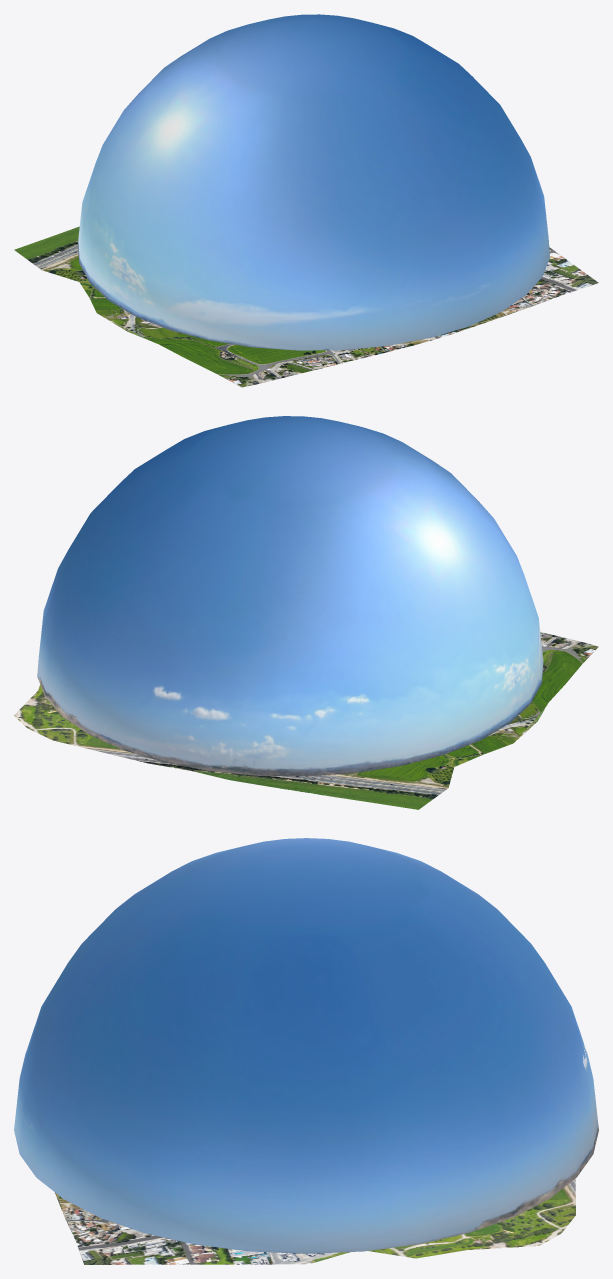
The model's file is big-scene.glb.
3 renders of one model, top to bottom at view 1: azimuth 30°, elevation 25°; view 2: azimuth 150°, elevation 25°; view 3: azimuth 270°, elevation 25°, orthographic. The views are drawn at different scales.
Visible parts, largest first — view 1: PANO_Sphere, Plane040; view 2: PANO_Sphere, Plane040; view 3: PANO_Sphere, Plane040.
Part boxes in pixels (<box>): PANO_Sphere: <box>77,14,549,350</box>; Plane040: <box>14,226,598,387</box>; PANO_Sphere: <box>37,416,543,776</box>; Plane040: <box>14,632,598,809</box>; PANO_Sphere: <box>14,838,598,1253</box>; Plane040: <box>55,1178,575,1264</box>.
Bounding box in the file's own units: 843 × 471 × 828.
3 materials, 2 textured.
